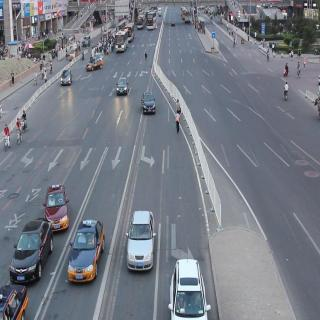BigCar: (117, 23, 128, 58), (149, 9, 158, 33)
Car: (13, 211, 50, 284), (126, 205, 158, 279), (169, 260, 209, 317), (76, 212, 102, 290), (46, 180, 71, 233), (141, 88, 160, 122), (117, 70, 132, 102), (61, 62, 73, 91), (88, 53, 102, 73)
